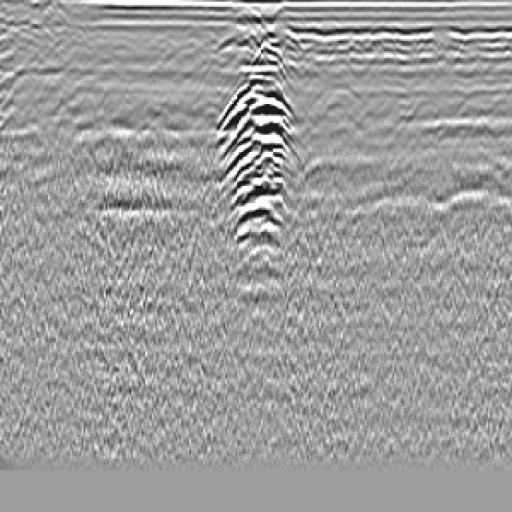metalic: (193, 30, 316, 265)
